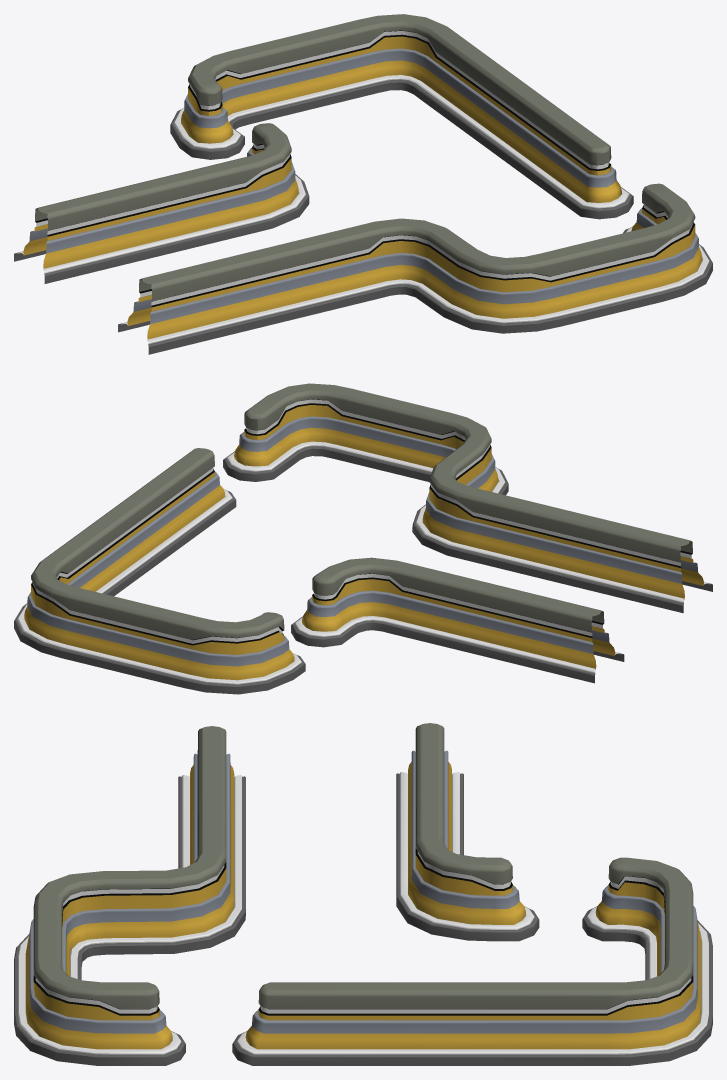
The model's file is Level17_Small_walls.fbx.
The picture shows the model from 3 angles, top to bottom: view 1: azimuth 30°, elevation 25°; view 2: azimuth 150°, elevation 25°; view 3: azimuth 270°, elevation 25°; orthographic projection. The views are drawn at different scales.
Visible parts, largest first — view 1: Small_wall_L19, Small_wall_L6, Small_wall_L20; view 2: Small_wall_L19, Small_wall_L6, Small_wall_L20; view 3: Small_wall_L6, Small_wall_L19, Small_wall_L20.
Part boxes in pixels (x1,y1,x2,y2): Small_wall_L19: (118, 183, 712, 354); Small_wall_L6: (170, 14, 633, 219); Small_wall_L20: (14, 123, 309, 283); Small_wall_L19: (223, 383, 712, 613); Small_wall_L6: (14, 448, 305, 694); Small_wall_L20: (291, 557, 624, 683); Small_wall_L6: (232, 857, 712, 1065); Small_wall_L19: (14, 726, 245, 1065); Small_wall_L20: (396, 723, 539, 941).
Size of the model in its own units: 341 by 37.08 by 355.
